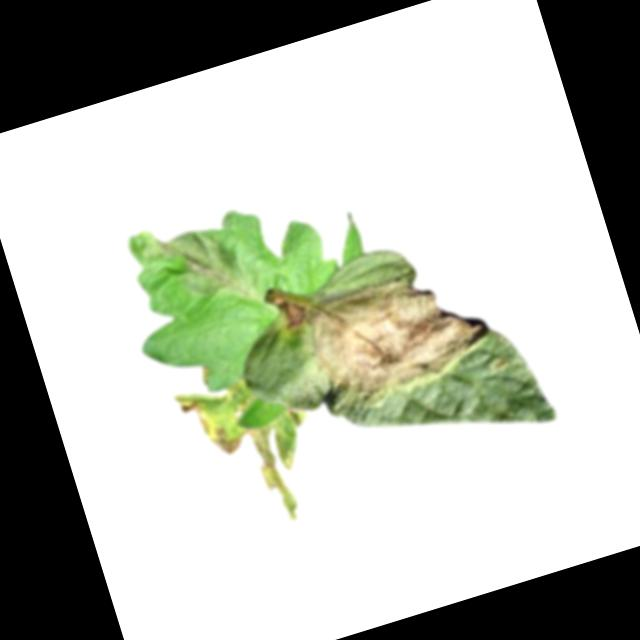Late_blight: (278, 244, 499, 415), (170, 360, 322, 544), (124, 202, 253, 329)
